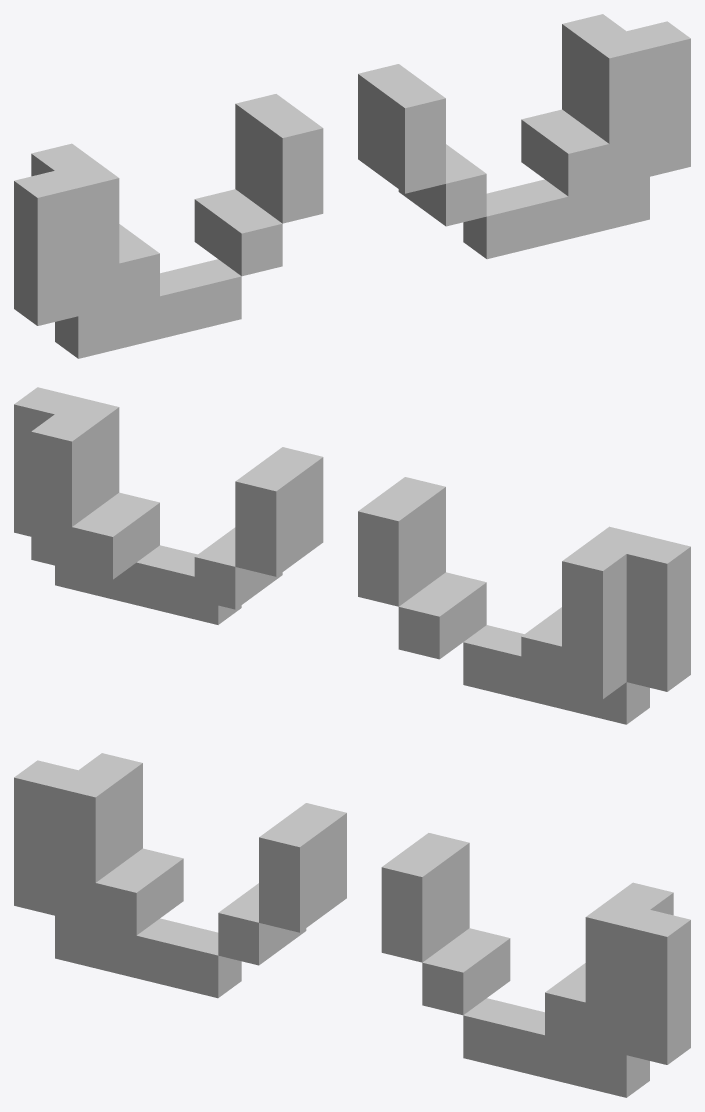
3 views of the same model, one above another, from view 1: azimuth 30°, elevation 25°; view 2: azimuth 150°, elevation 25°; view 3: azimuth 330°, elevation 25° (orthographic).
Parts seen in each view (by area): view 1: 45.1; view 2: 45.1; view 3: 45.1.
Part boxes in pixels (x1,y1,x2,y2): 45.1: (14,14,690,358); 45.1: (14,387,690,724); 45.1: (14,753,690,1097).
Bounding box in the file's own units: 160 × 40 × 20.
Materials: 1 (1 with a texture image).
